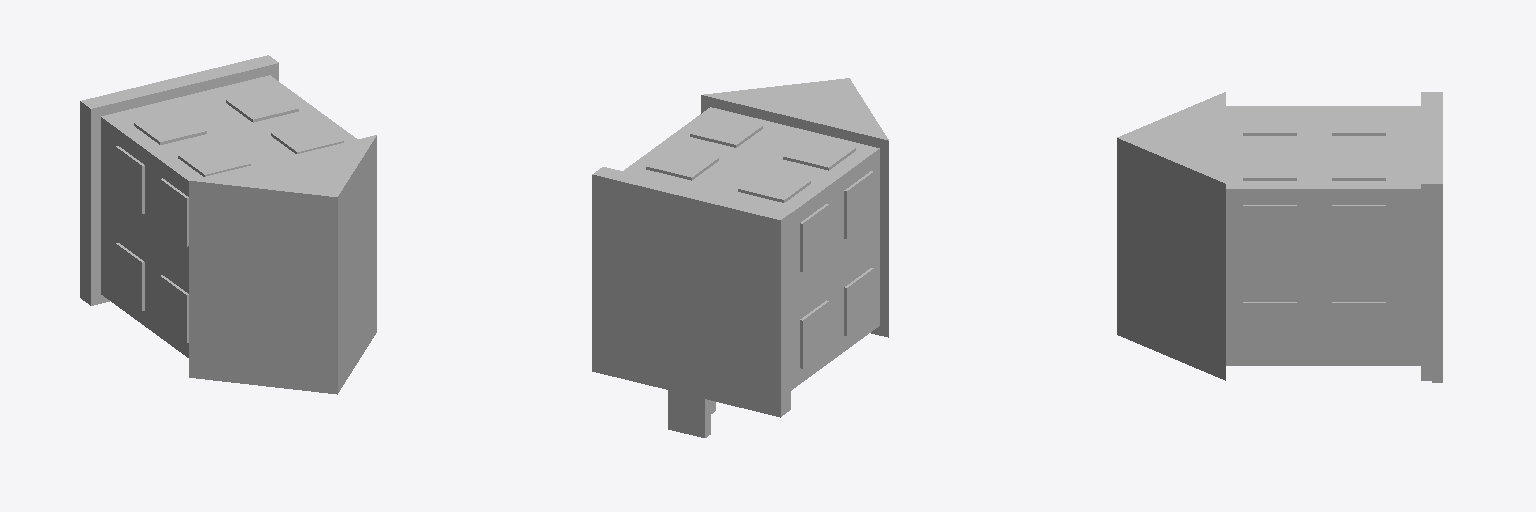
The model's file is onlyHouse_1.obj.
3 renders of one model, left to right at view 1: azimuth 30°, elevation 25°; view 2: azimuth 150°, elevation 25°; view 3: azimuth 270°, elevation 25°, orthographic.
Visible parts, largest first — view 1: dach_Cube.002, haus_Cube.001, fundament_Cube; view 2: fundament_Cube, haus_Cube.001, dach_Cube.002; view 3: haus_Cube.001, dach_Cube.002, fundament_Cube.
Part boxes in pixels (bbox=[...]): dach_Cube.002: bbox=[189, 135, 376, 394]; haus_Cube.001: bbox=[101, 75, 356, 357]; fundament_Cube: bbox=[80, 55, 278, 305]; fundament_Cube: bbox=[592, 167, 790, 437]; haus_Cube.001: bbox=[624, 107, 879, 390]; dach_Cube.002: bbox=[701, 78, 888, 337]; haus_Cube.001: bbox=[1226, 106, 1420, 365]; dach_Cube.002: bbox=[1117, 92, 1225, 380]; fundament_Cube: bbox=[1421, 92, 1442, 382].
Size of the model in its own units: 2 by 2.4 by 3.